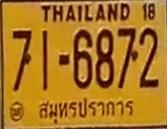1: (42, 30, 49, 91)
2: (139, 28, 159, 87)
6: (72, 29, 91, 88)
7: (117, 27, 137, 89), (12, 30, 31, 92)
8: (95, 28, 113, 87)
SPK: (38, 97, 136, 124)
